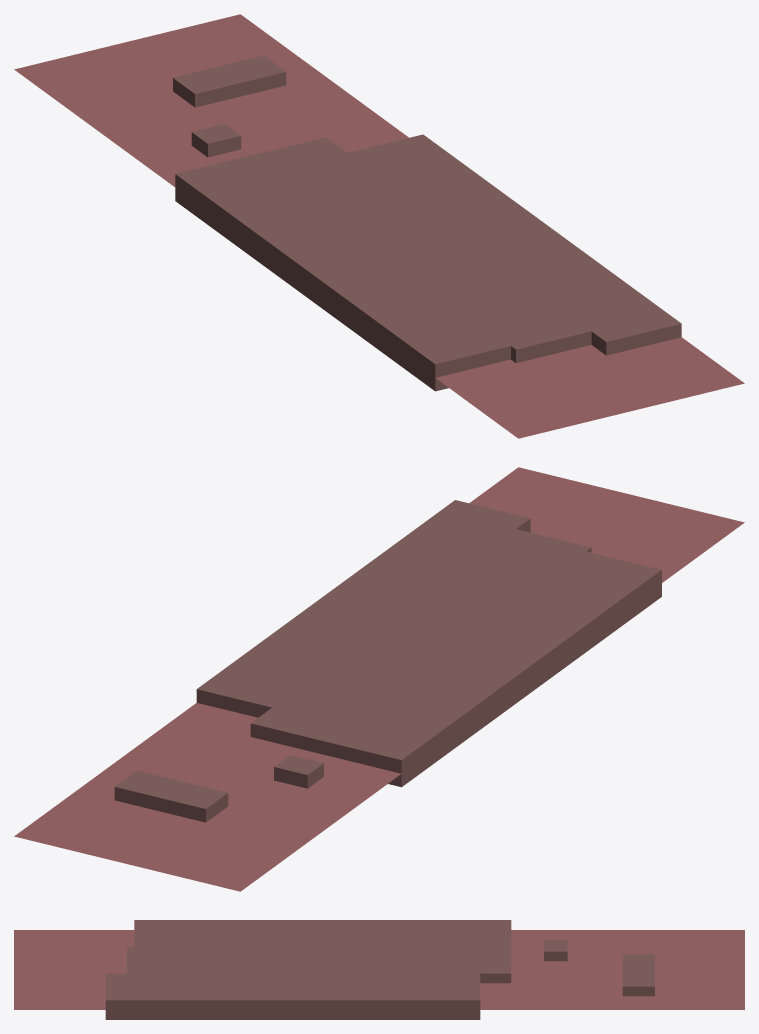
The model's file is Tile_Magma_02.fbx.
3 renders of one model, top to bottom at view 1: azimuth 30°, elevation 25°; view 2: azimuth 150°, elevation 25°; view 3: azimuth 270°, elevation 25°, orthographic. The views are drawn at different scales.
Visible parts, largest first — view 1: pCube28, pPlane4, polySurface3, polySurface11; view 2: pCube28, pPlane4, polySurface3, polySurface11; view 3: pCube28, pPlane4, polySurface3, polySurface11.
Boxes of the visible parts, left/top/right/bottom form: pCube28: left=175, top=134, right=681, bottom=391; pPlane4: left=14, top=14, right=744, bottom=438; polySurface3: left=173, top=55, right=286, bottom=107; polySurface11: left=191, top=124, right=241, bottom=157; pCube28: left=196, top=500, right=661, bottom=787; pPlane4: left=14, top=467, right=744, bottom=891; polySurface3: left=114, top=770, right=228, bottom=822; polySurface11: left=274, top=755, right=323, bottom=788; pCube28: left=105, top=920, right=511, bottom=1019; pPlane4: left=14, top=930, right=744, bottom=1009; polySurface3: left=622, top=954, right=654, bottom=996; polySurface11: left=544, top=939, right=567, bottom=961.
Bounding box in the file's own units: 35 × 4 × 135.
